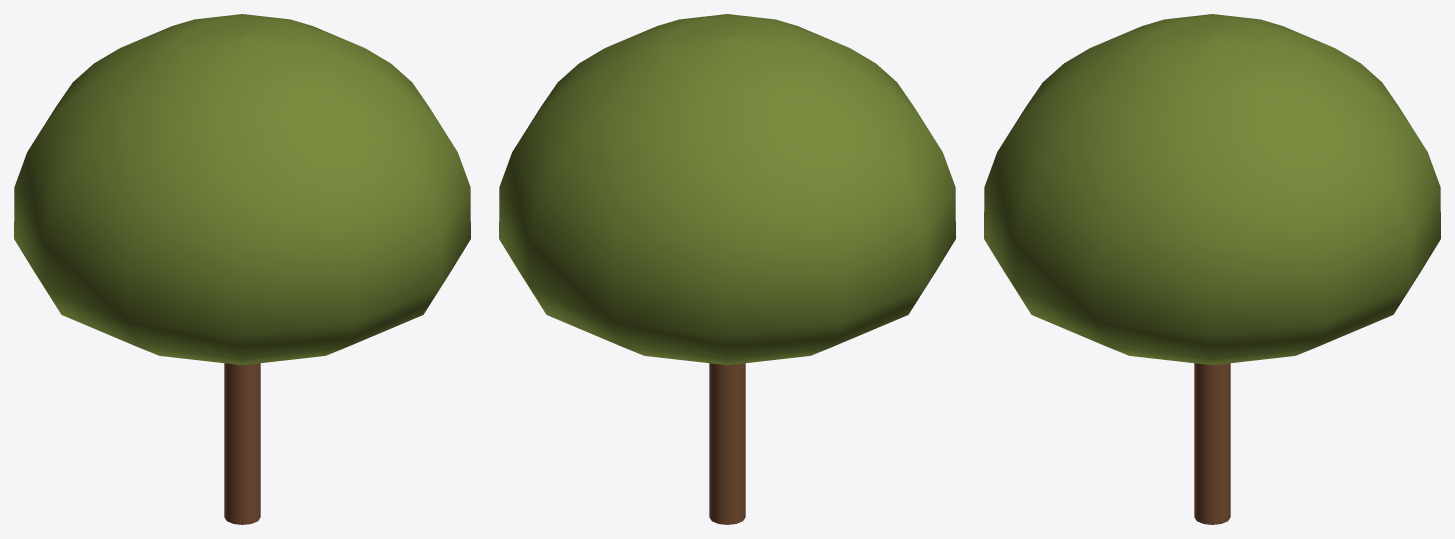
File: Northern_Red_Oak_Analytical_0.obj
3 views of the same model, side by side, from view 1: azimuth 30°, elevation 25°; view 2: azimuth 150°, elevation 25°; view 3: azimuth 270°, elevation 25° (orthographic).
Visible parts, largest first — view 1: AnalyticalCrown, AnalyticalTrunk; view 2: AnalyticalCrown, AnalyticalTrunk; view 3: AnalyticalCrown, AnalyticalTrunk.
Boxes of the visible parts, x1=… form: AnalyticalCrown: x1=14, y1=14, x2=470, y2=365; AnalyticalTrunk: x1=224, y1=363, x2=260, y2=524; AnalyticalCrown: x1=499, y1=14, x2=955, y2=365; AnalyticalTrunk: x1=709, y1=363, x2=745, y2=524; AnalyticalCrown: x1=984, y1=14, x2=1440, y2=365; AnalyticalTrunk: x1=1194, y1=363, x2=1230, y2=524.
Size of the model in its own units: 20.7 by 24 by 20.7.
